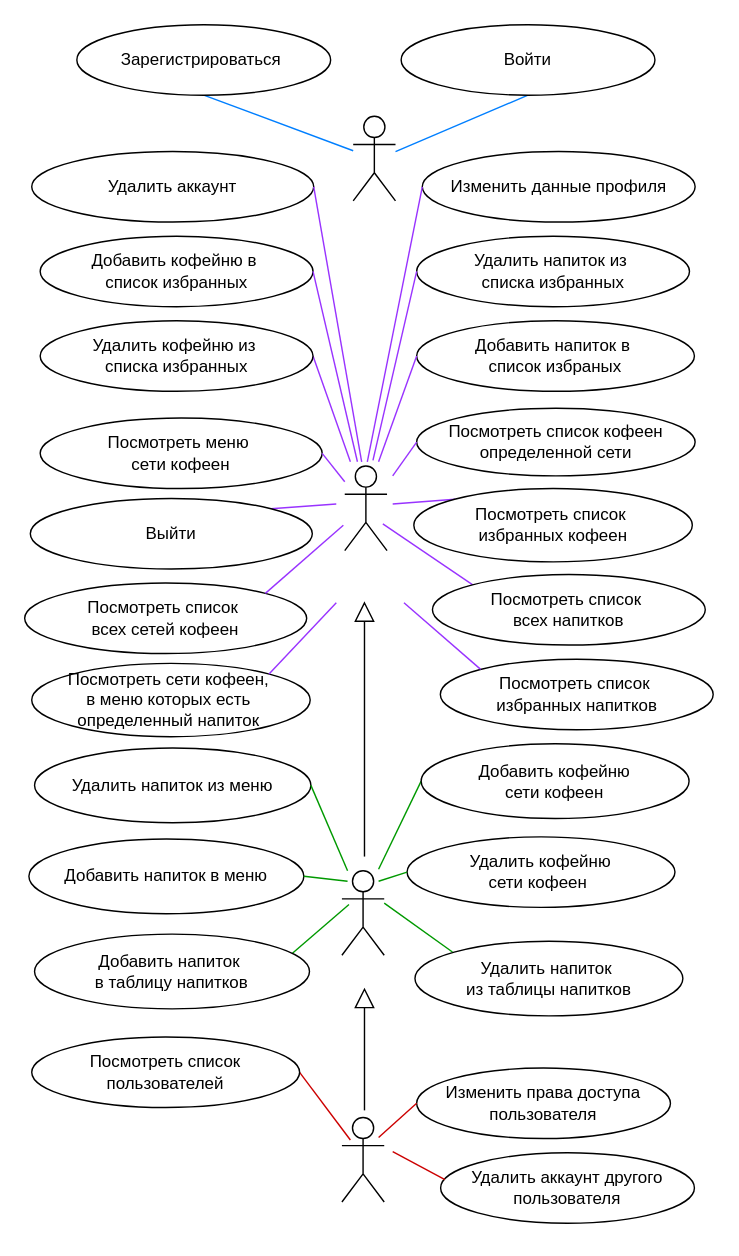
Image size: 739x1256. Some labels were removed from this diagram. Here are the shapes that lost their labels. From the top down, the centre of each, then its label:
point 374,158: Гость
point 365,508: Авторизованный пользователь
point 362,912: Модератор
point 362,1159: Администратор
